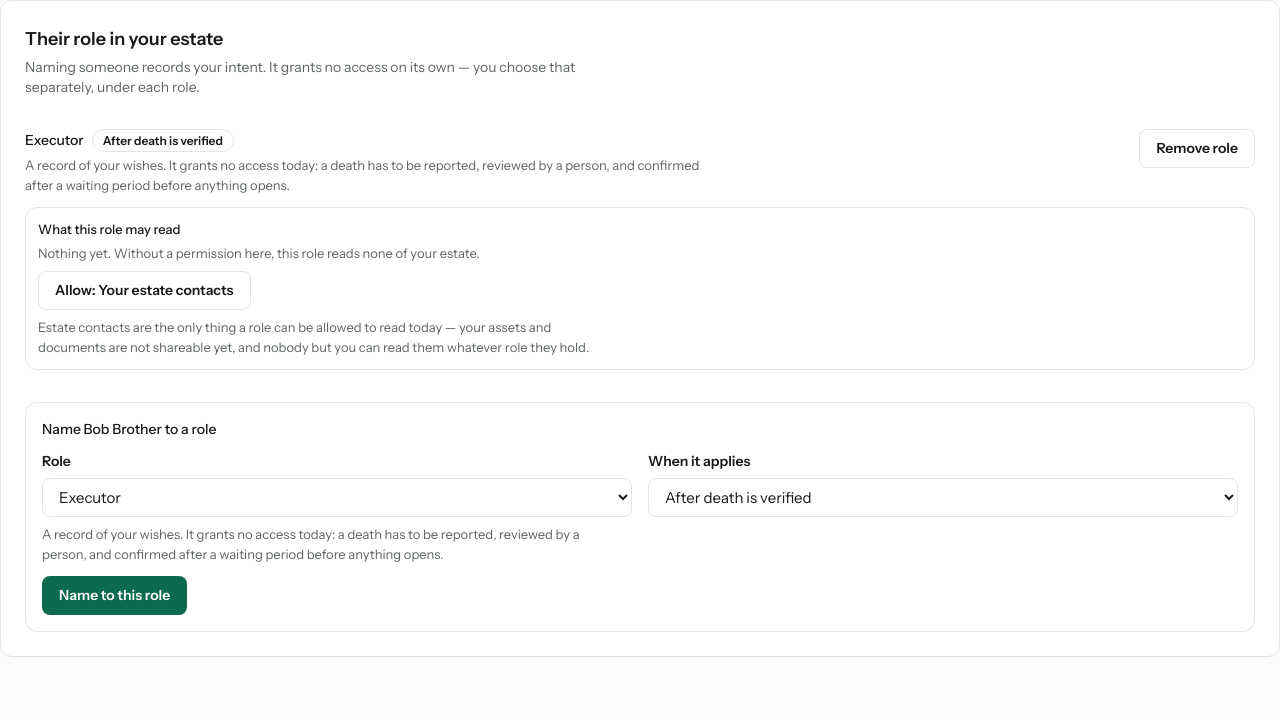
Scenario: granting a permission › renders the server’s grant set rather than a local guess
Expected: the text "Without a permission here" is shown, [38, 245, 480, 261]
Click the button "Allow: Your estate contacts" at (144, 291), box [38, 271, 250, 310]
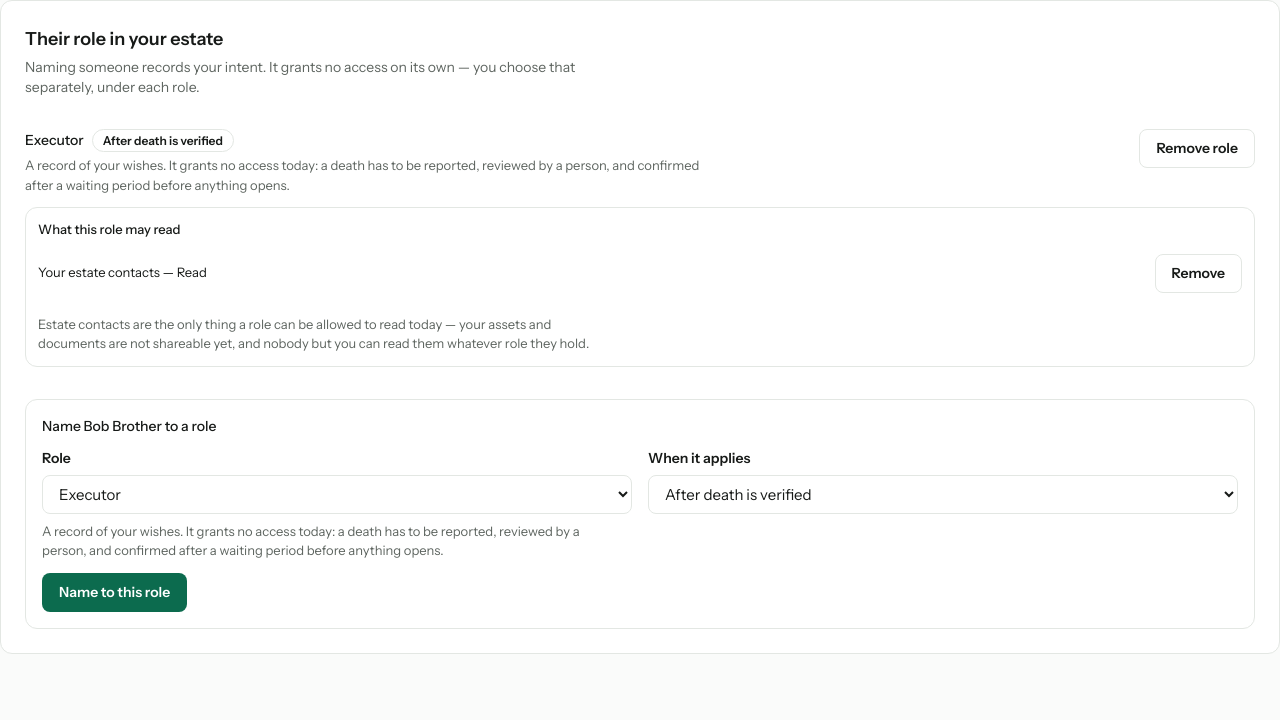
Now the text "Your estate contacts — Read" is shown, box [38, 263, 207, 283]
